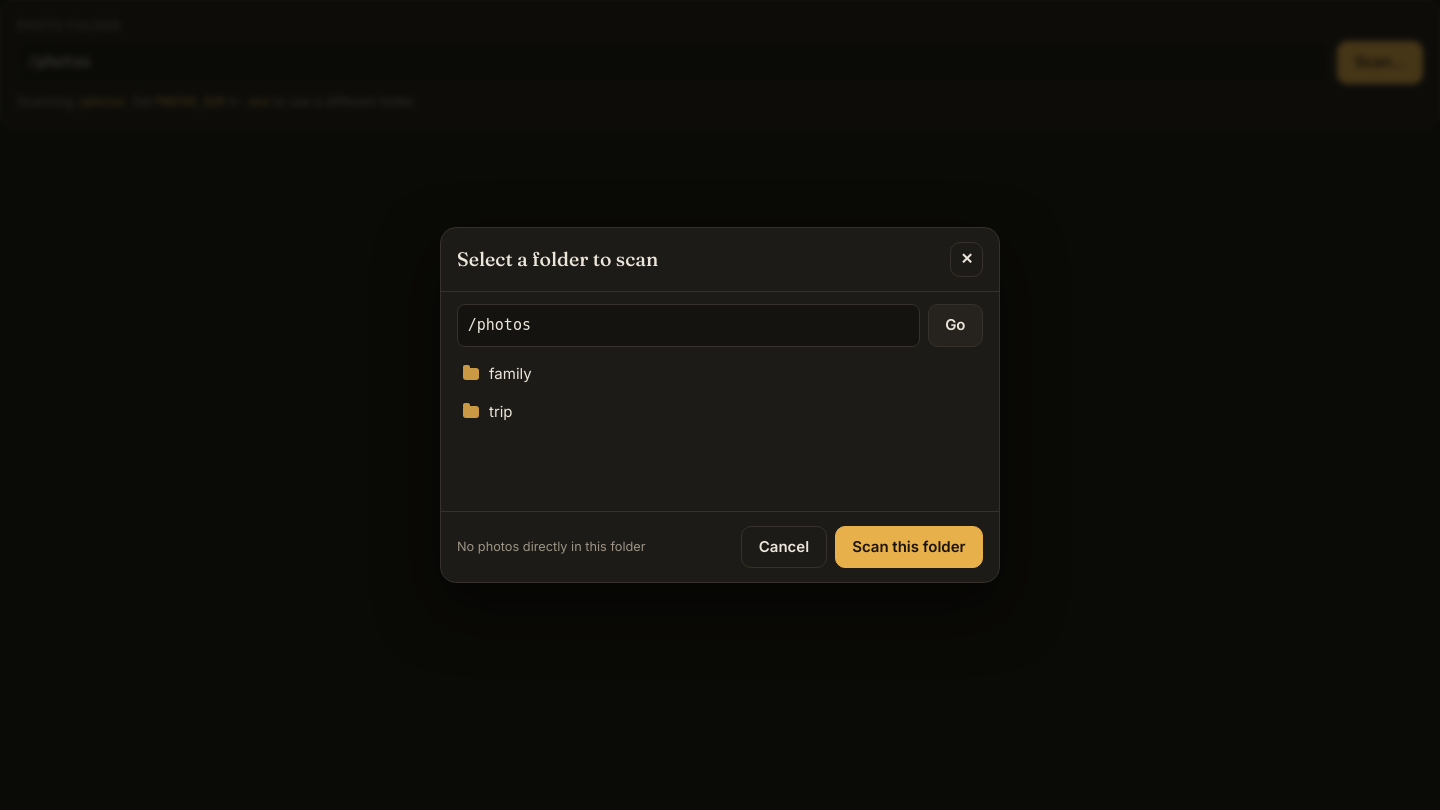
Test case: FolderPicker › cancelling the dialog does not scan
Expected: the button "trip" is shown, [453,393,987,432]
Click the button "Cancel". click: (784, 547)
box: [741,526,827,568]
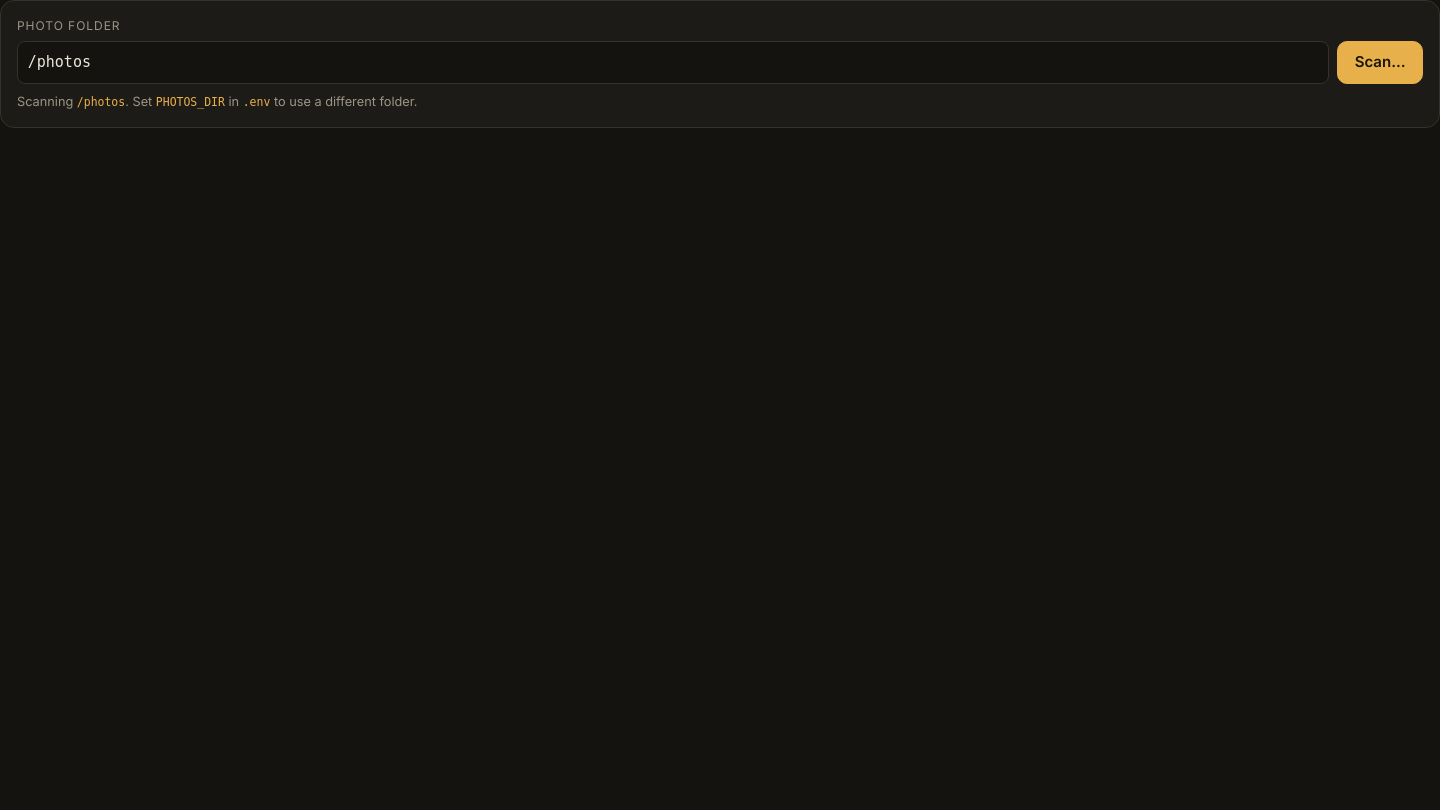
Expected: the dialog is gone
